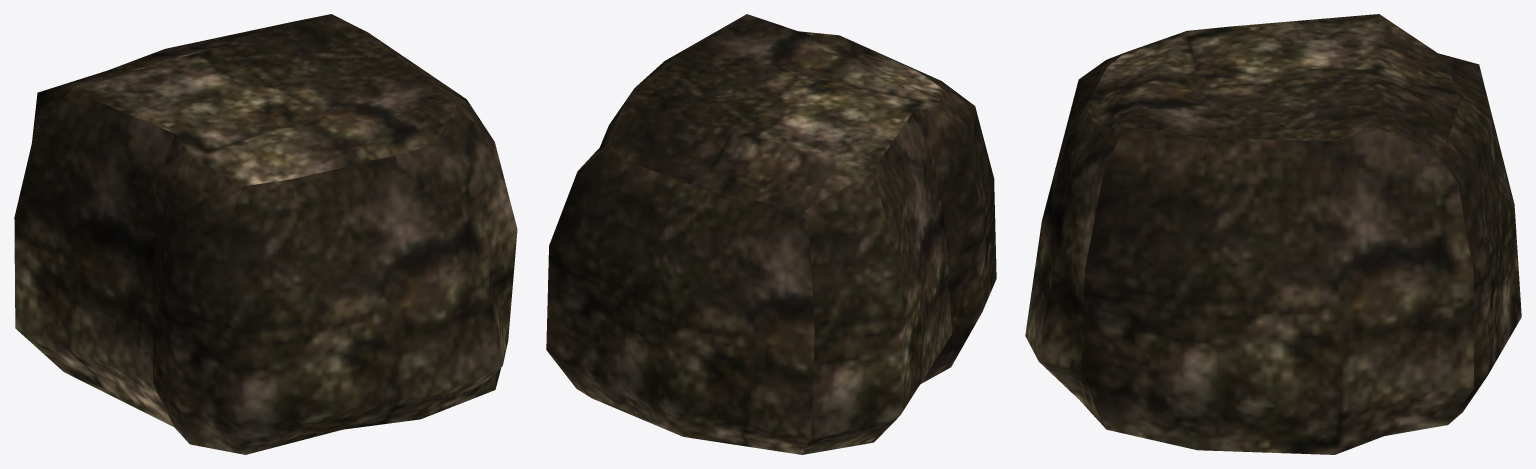
Rendered from dungeon_wall_broken_stone03.dae.
The picture shows the model from 3 angles, left to right: view 1: azimuth 30°, elevation 25°; view 2: azimuth 150°, elevation 25°; view 3: azimuth 270°, elevation 25°; orthographic projection. The views are drawn at different scales.
Parts seen in each view (by area): view 1: dungeon_wall_broken_stone03; view 2: dungeon_wall_broken_stone03; view 3: dungeon_wall_broken_stone03.
Boxes of the visible parts, left/top/right/bottom form: dungeon_wall_broken_stone03: left=14, top=14, right=517, bottom=454; dungeon_wall_broken_stone03: left=546, top=14, right=996, bottom=454; dungeon_wall_broken_stone03: left=1025, top=14, right=1521, bottom=454.
Size of the model in its own units: 0.4743 by 0.3562 by 0.5293.
